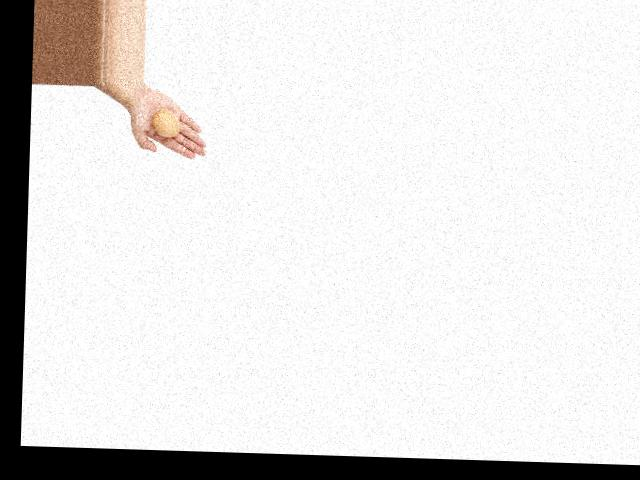egg: (150, 108, 179, 137)
